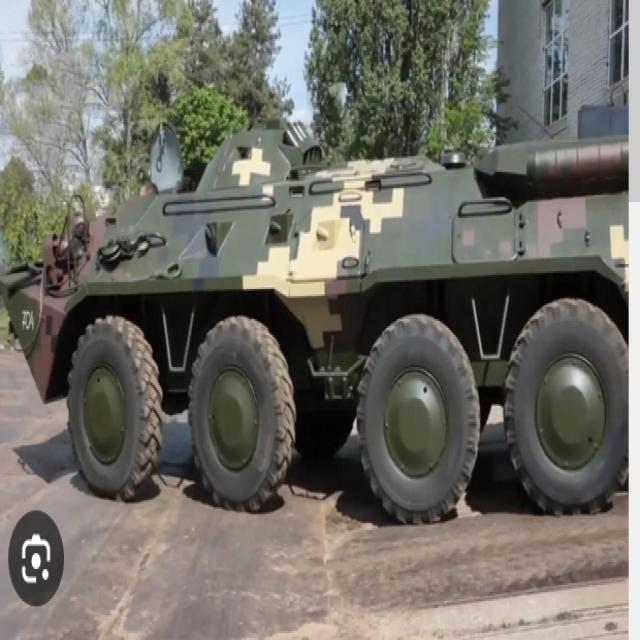MIL_APC: (12, 96, 610, 522)
